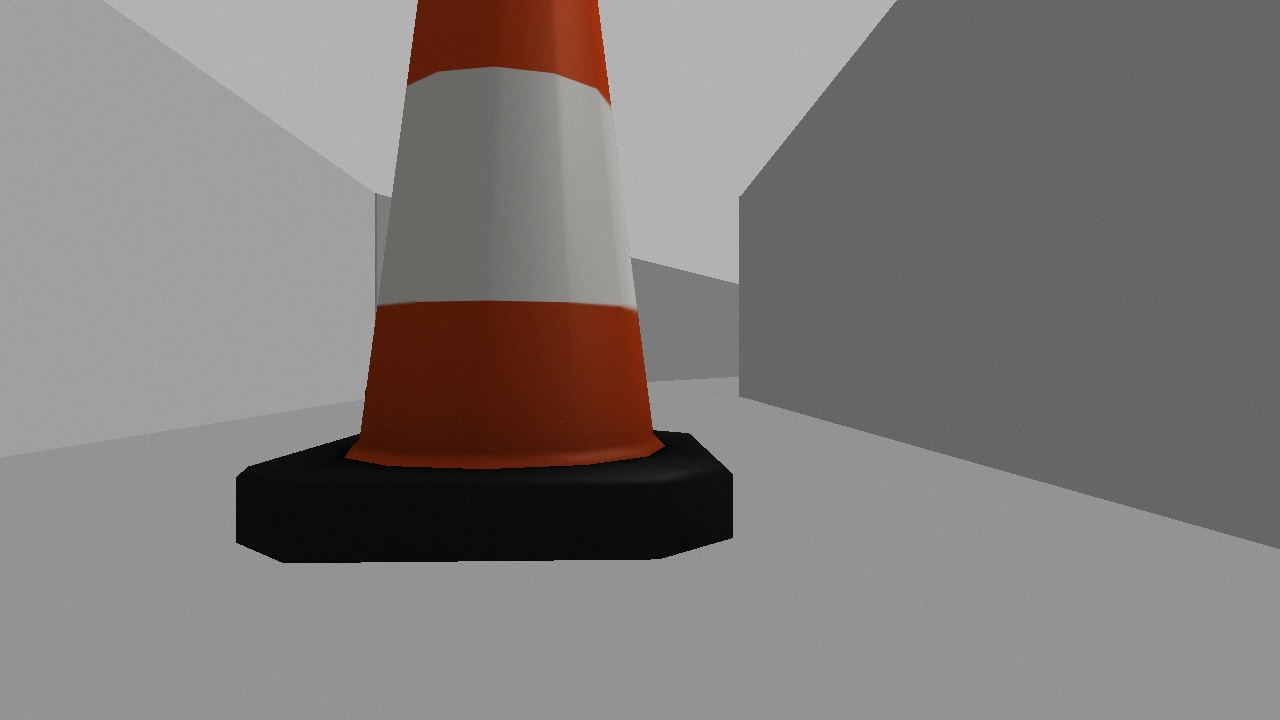barricade: (194, 1, 757, 591)
